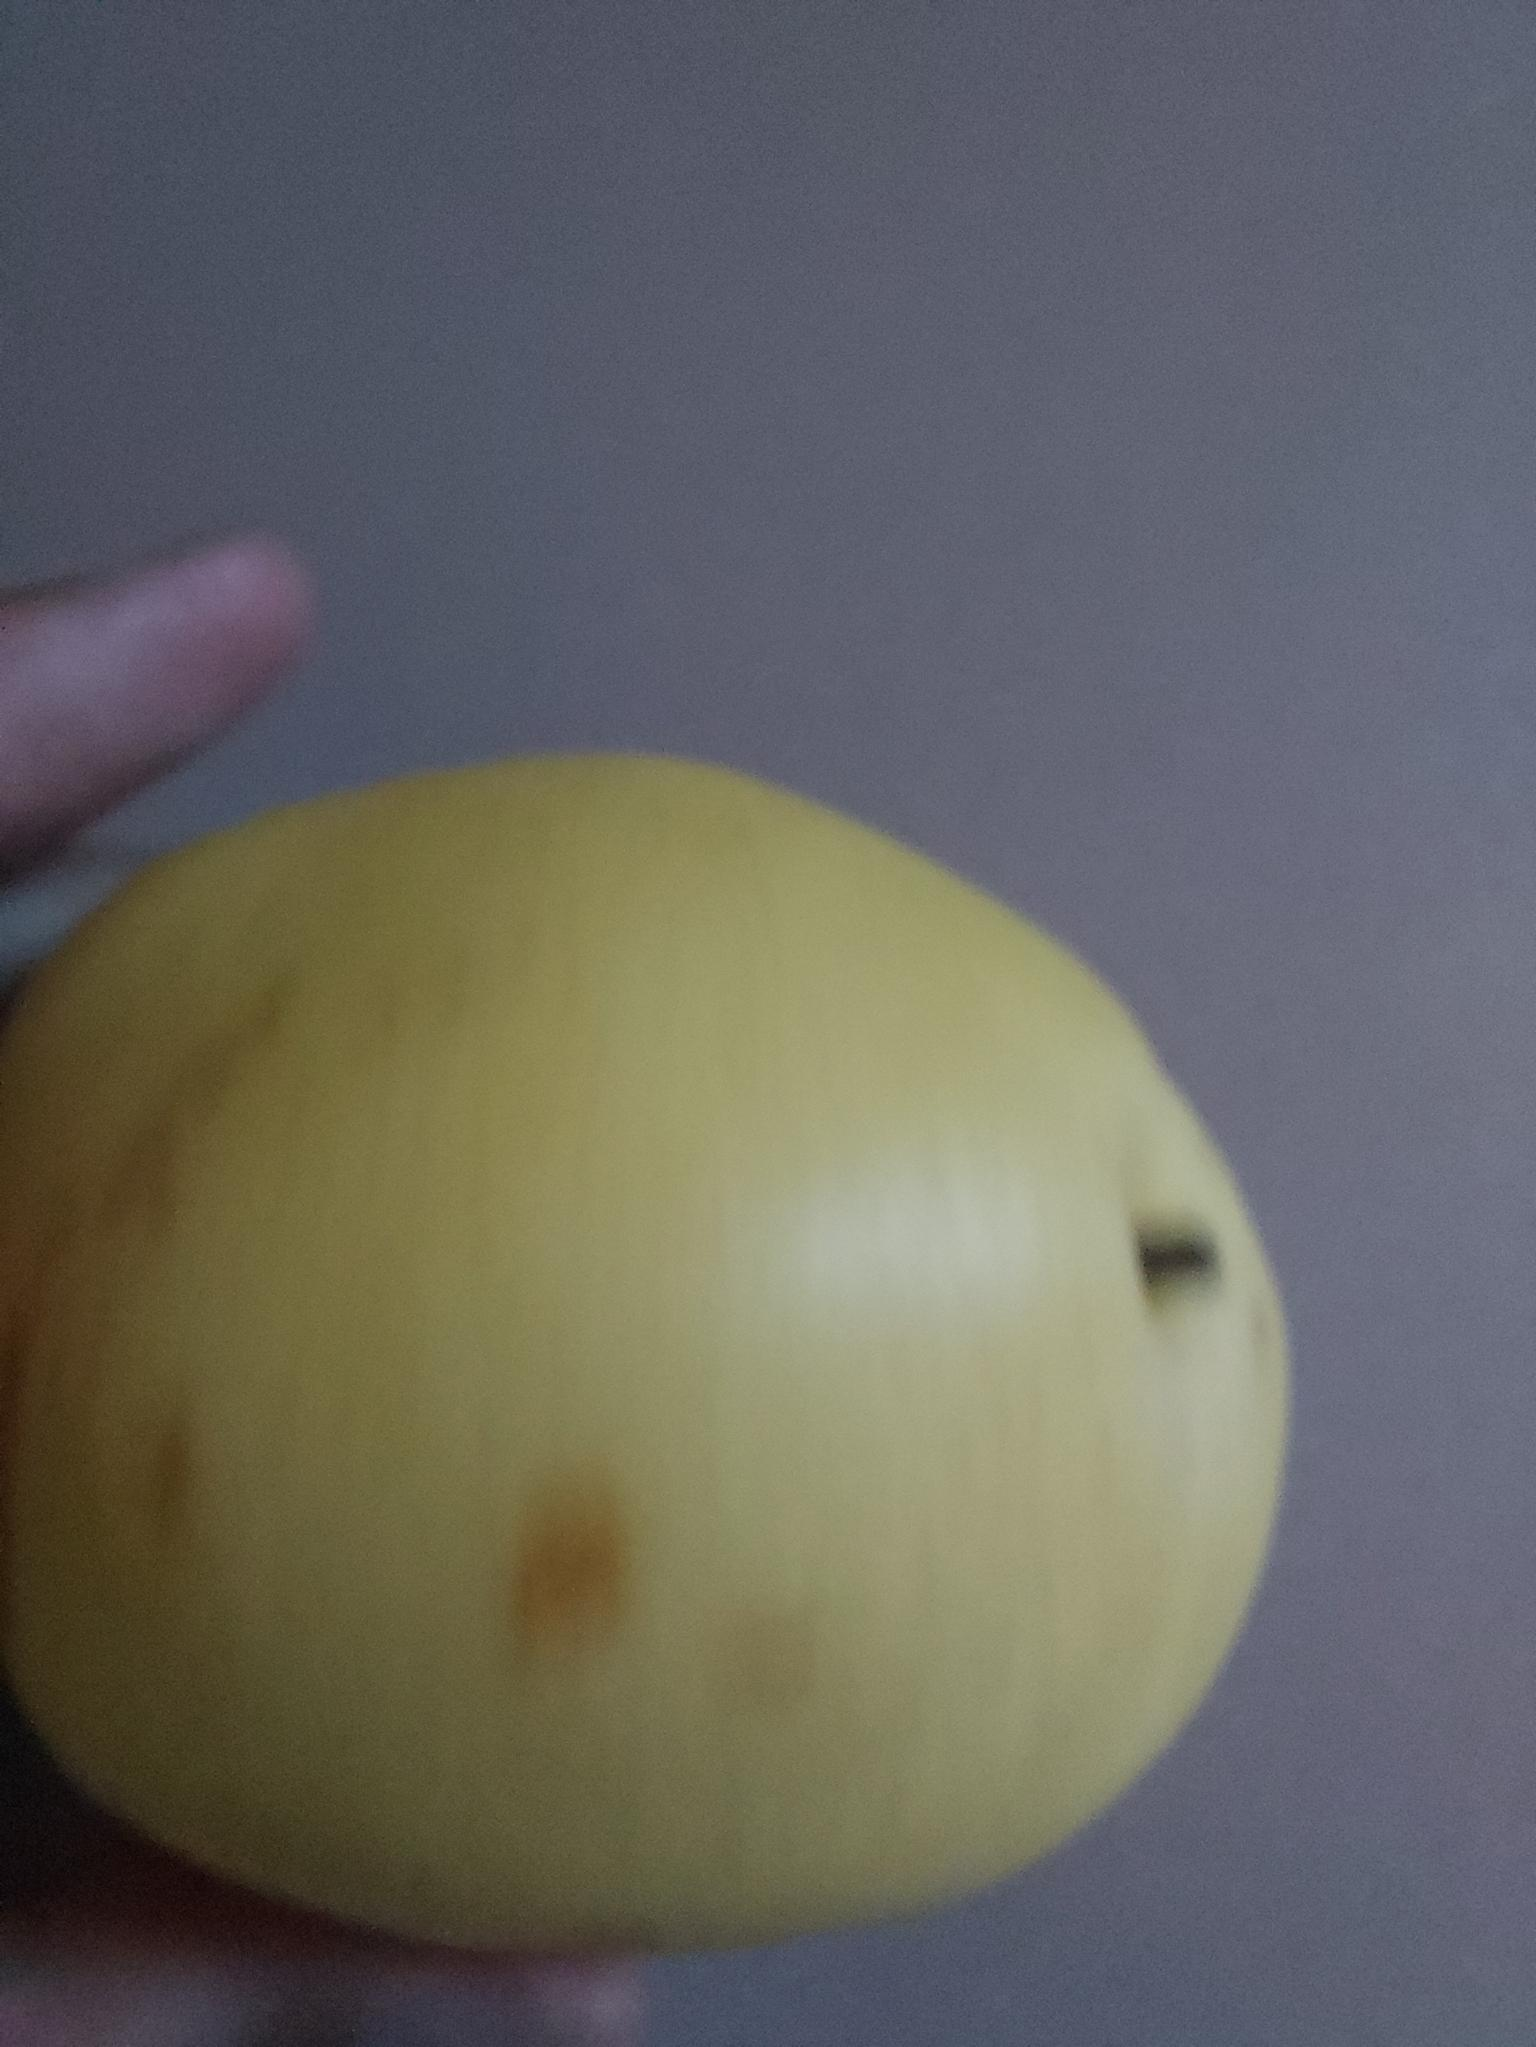Good Pear: (5, 744, 1307, 1974)
